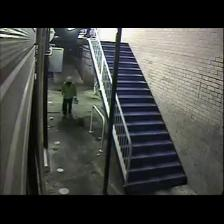person: (62, 77, 76, 116)
